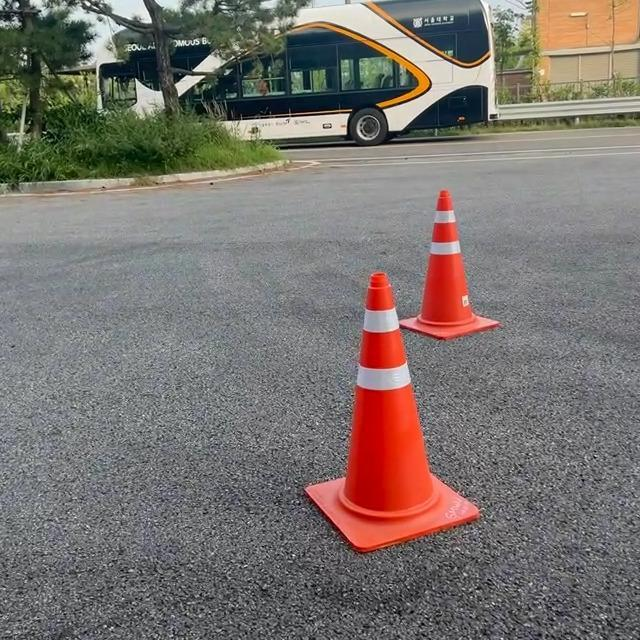fallen_object: (249, 260, 581, 563), (392, 165, 512, 363)
